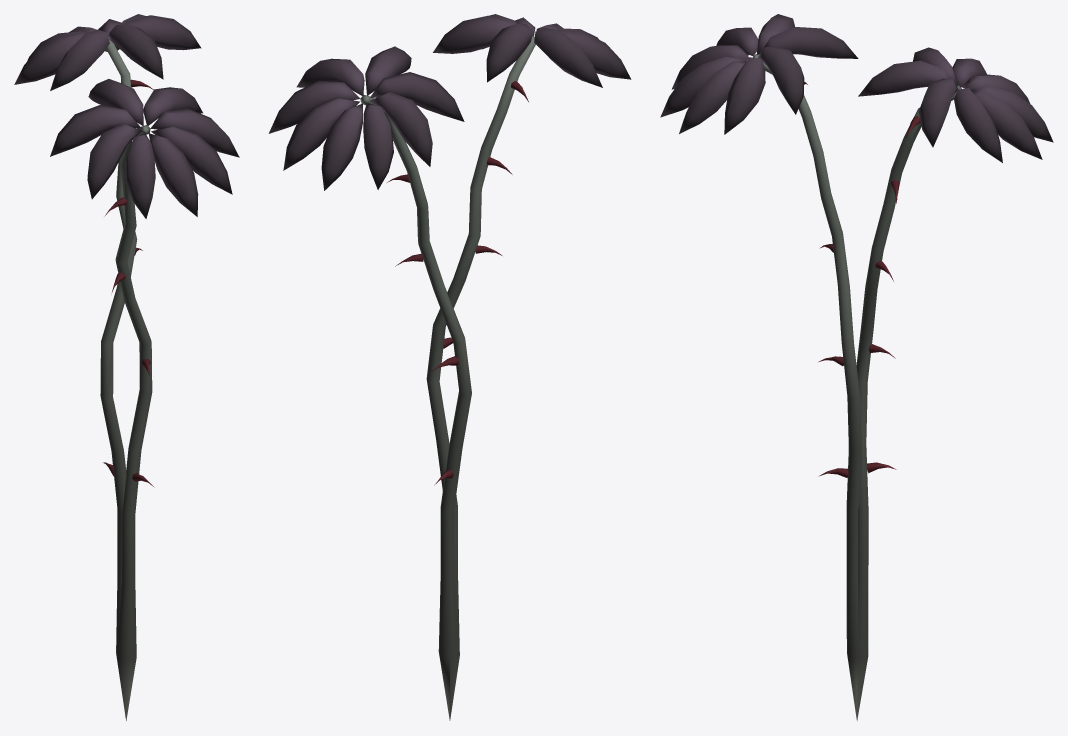
The model's file is plants-flowers-thorny-purple-flower_v7.glb.
3 views of the same model, side by side, from view 1: azimuth 30°, elevation 25°; view 2: azimuth 150°, elevation 25°; view 3: azimuth 270°, elevation 25° (orthographic). The views are drawn at different scales.
Parts seen in each view (by area): view 1: Thorny Purple Flower_v7; view 2: Thorny Purple Flower_v7; view 3: Thorny Purple Flower_v7.
Boxes of the visible parts, x1,y1,x2,y2 form: Thorny Purple Flower_v7: (14,14,239,720); Thorny Purple Flower_v7: (268,14,631,720); Thorny Purple Flower_v7: (660,14,1053,720).
Size of the model in its own units: 0.2123 by 0.6 by 0.3153.
